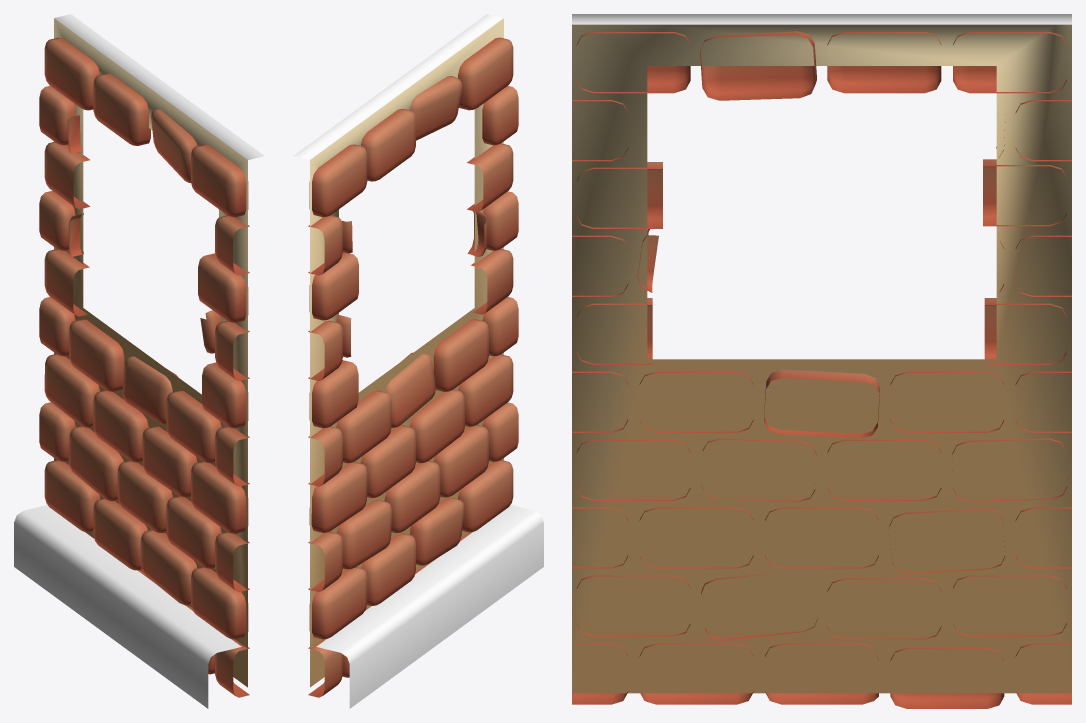
Rendered from Brickwall_Luxaflex_M.fbx.
The picture shows the model from 3 angles, left to right: view 1: azimuth 30°, elevation 25°; view 2: azimuth 150°, elevation 25°; view 3: azimuth 270°, elevation 25°; orthographic projection. The views are drawn at different scales.
Parts seen in each view (by area): view 1: BrickWall.004; view 2: BrickWall.004; view 3: BrickWall.004.
Boxes of the visible parts, x1,y1,x2,y2 form: BrickWall.004: (14, 14, 264, 708); BrickWall.004: (293, 14, 543, 708); BrickWall.004: (572, 14, 1071, 708).
Size of the model in its own units: 2 by 3.07 by 0.3375.
